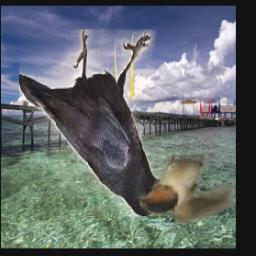Crow: (18, 30, 173, 217)
Swallow: (139, 155, 235, 225)
